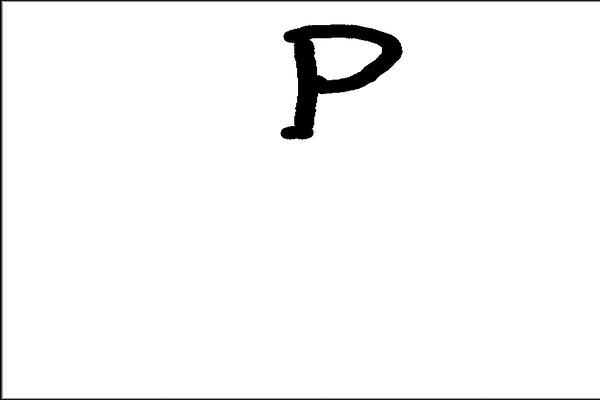P: (271, 15, 401, 146)
